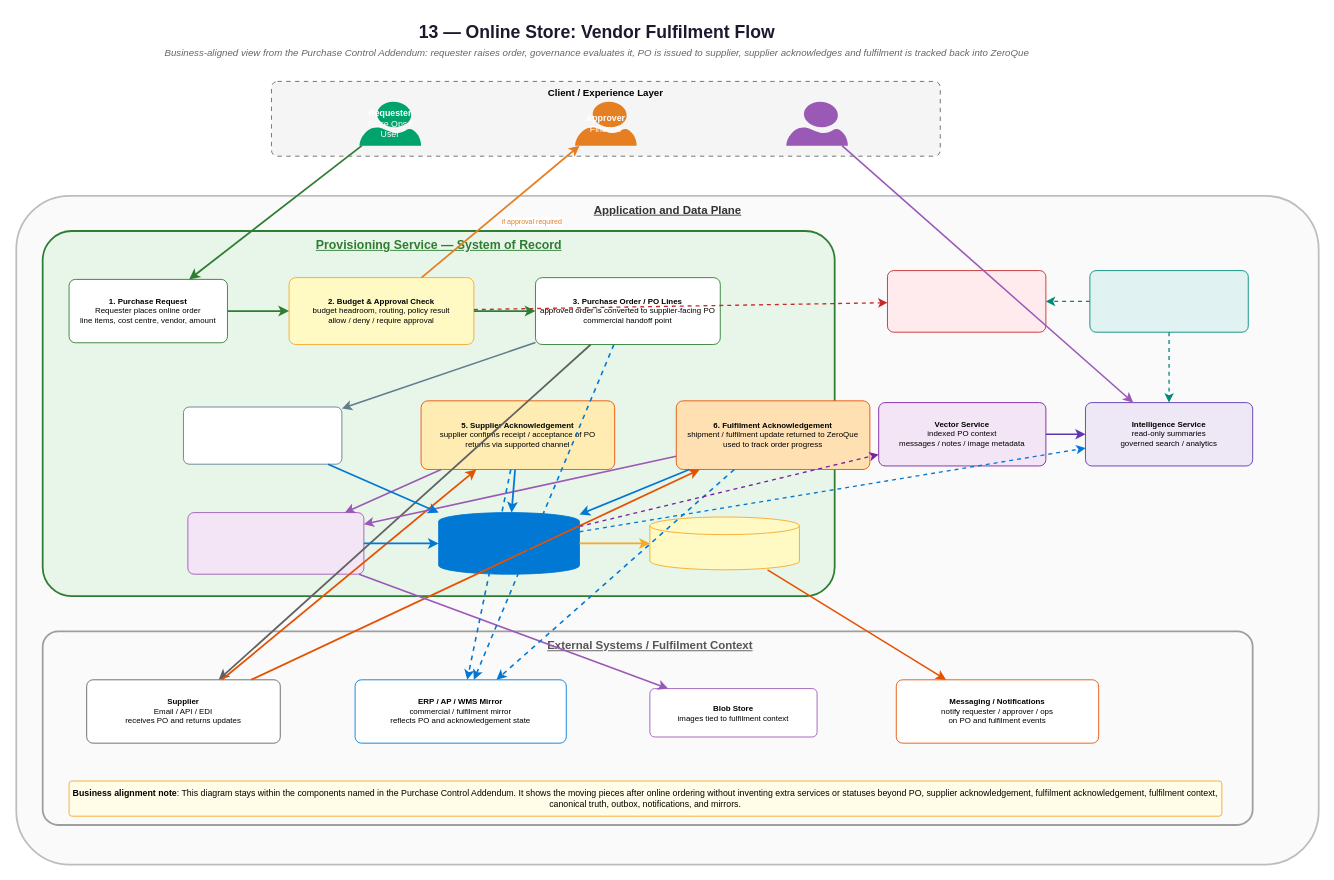
The diagram is 1334 pixels wide and 880 high, and some of its shapes have lost their labels. The centre of each missing label's shape, as x and y in pixels:
4. Order Charges commercial charge / cost record stays in canonical truth: the point at 262,435
7. Fulfilment Context notes, images, location context kept with the order trail: the point at 275,543
Analyst Search: the point at 816,123
Graph Service governance topology roles / line visibility: the point at 1168,301
Outbox Events PO issued, supplier ack, fulfilment ack: the point at 724,543
Policy Service RBAC + policy allow / deny / require approval: the point at 966,301
Postgres canonical truth for PR, PO, charges, acknowledgements, context: the point at 508,543
